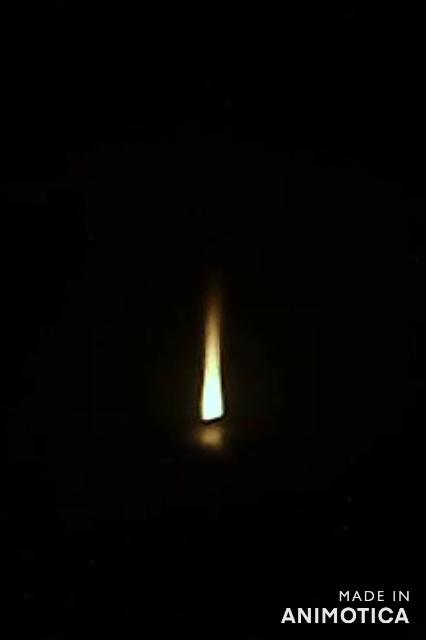burner flame: (198, 296, 228, 422)
